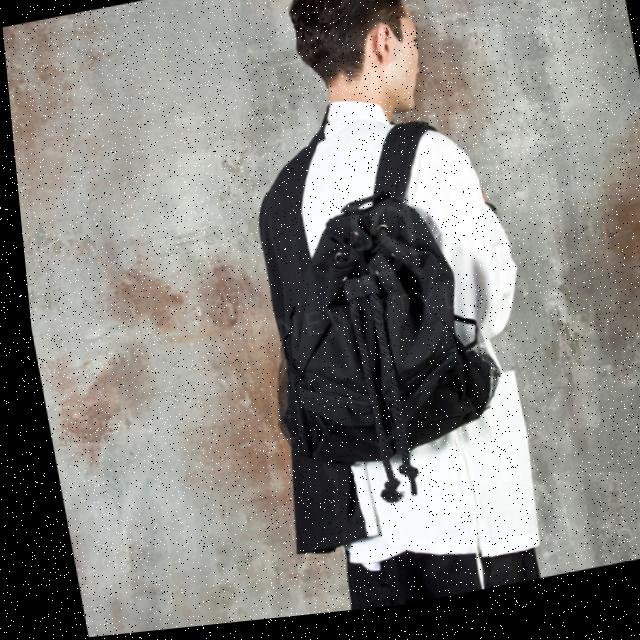backpack: (248, 158, 520, 494)
